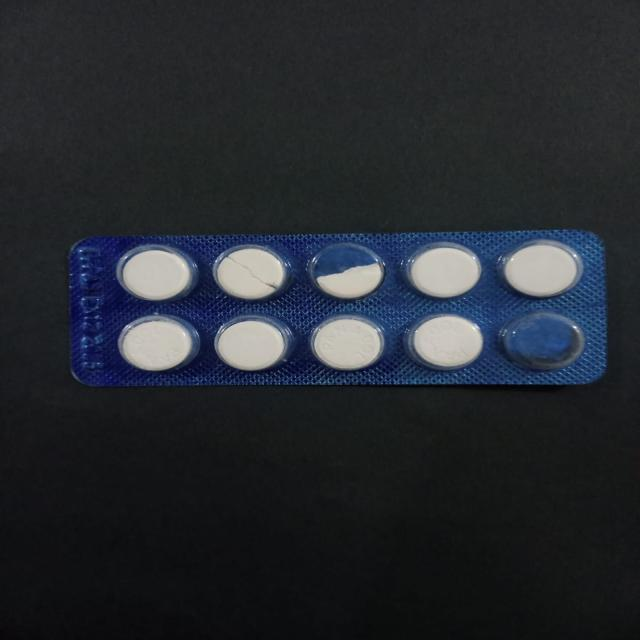defect: (499, 309, 590, 374), (209, 241, 294, 304), (304, 240, 390, 301)
